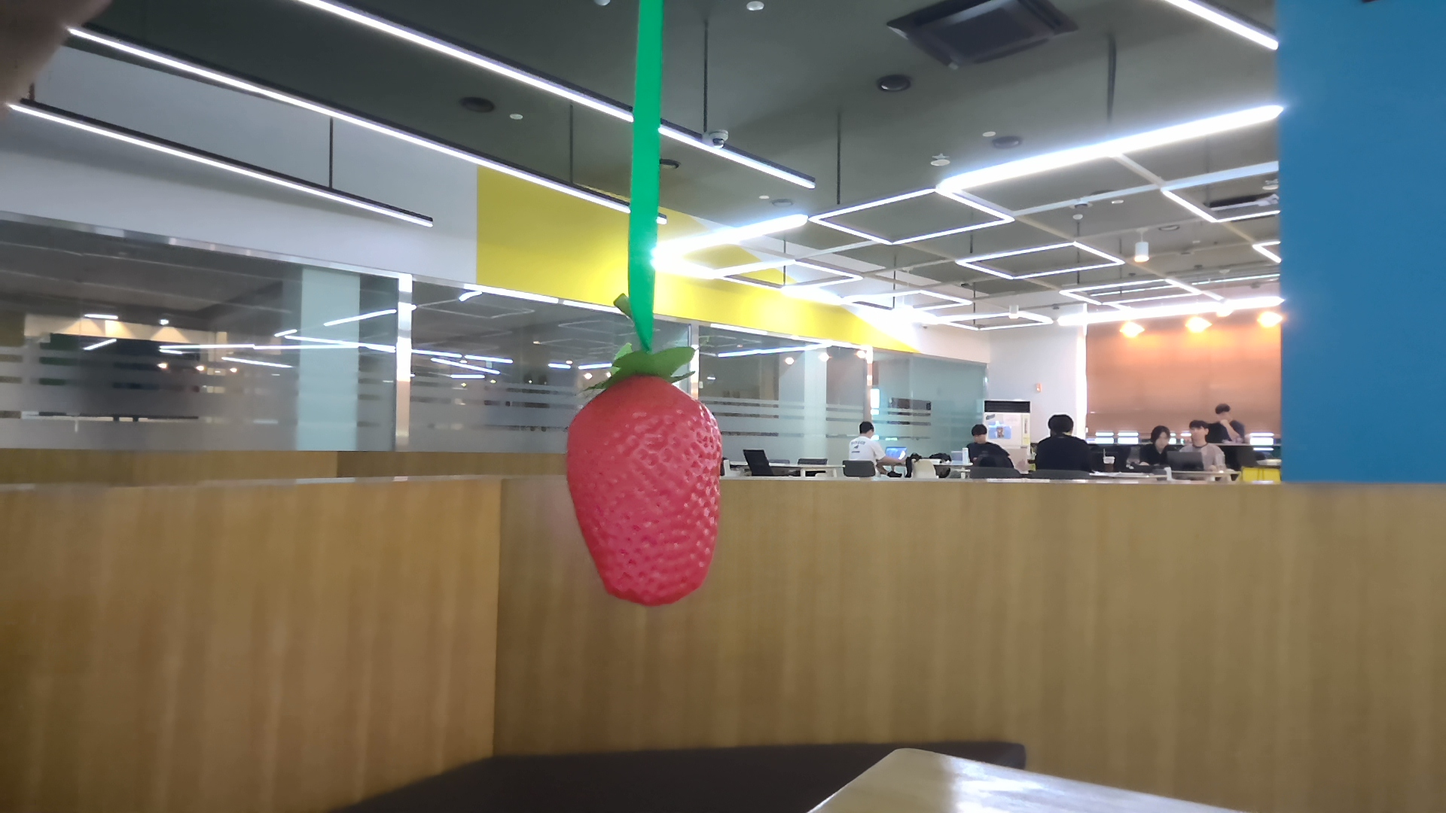strawberry: (542, 356, 743, 609)
